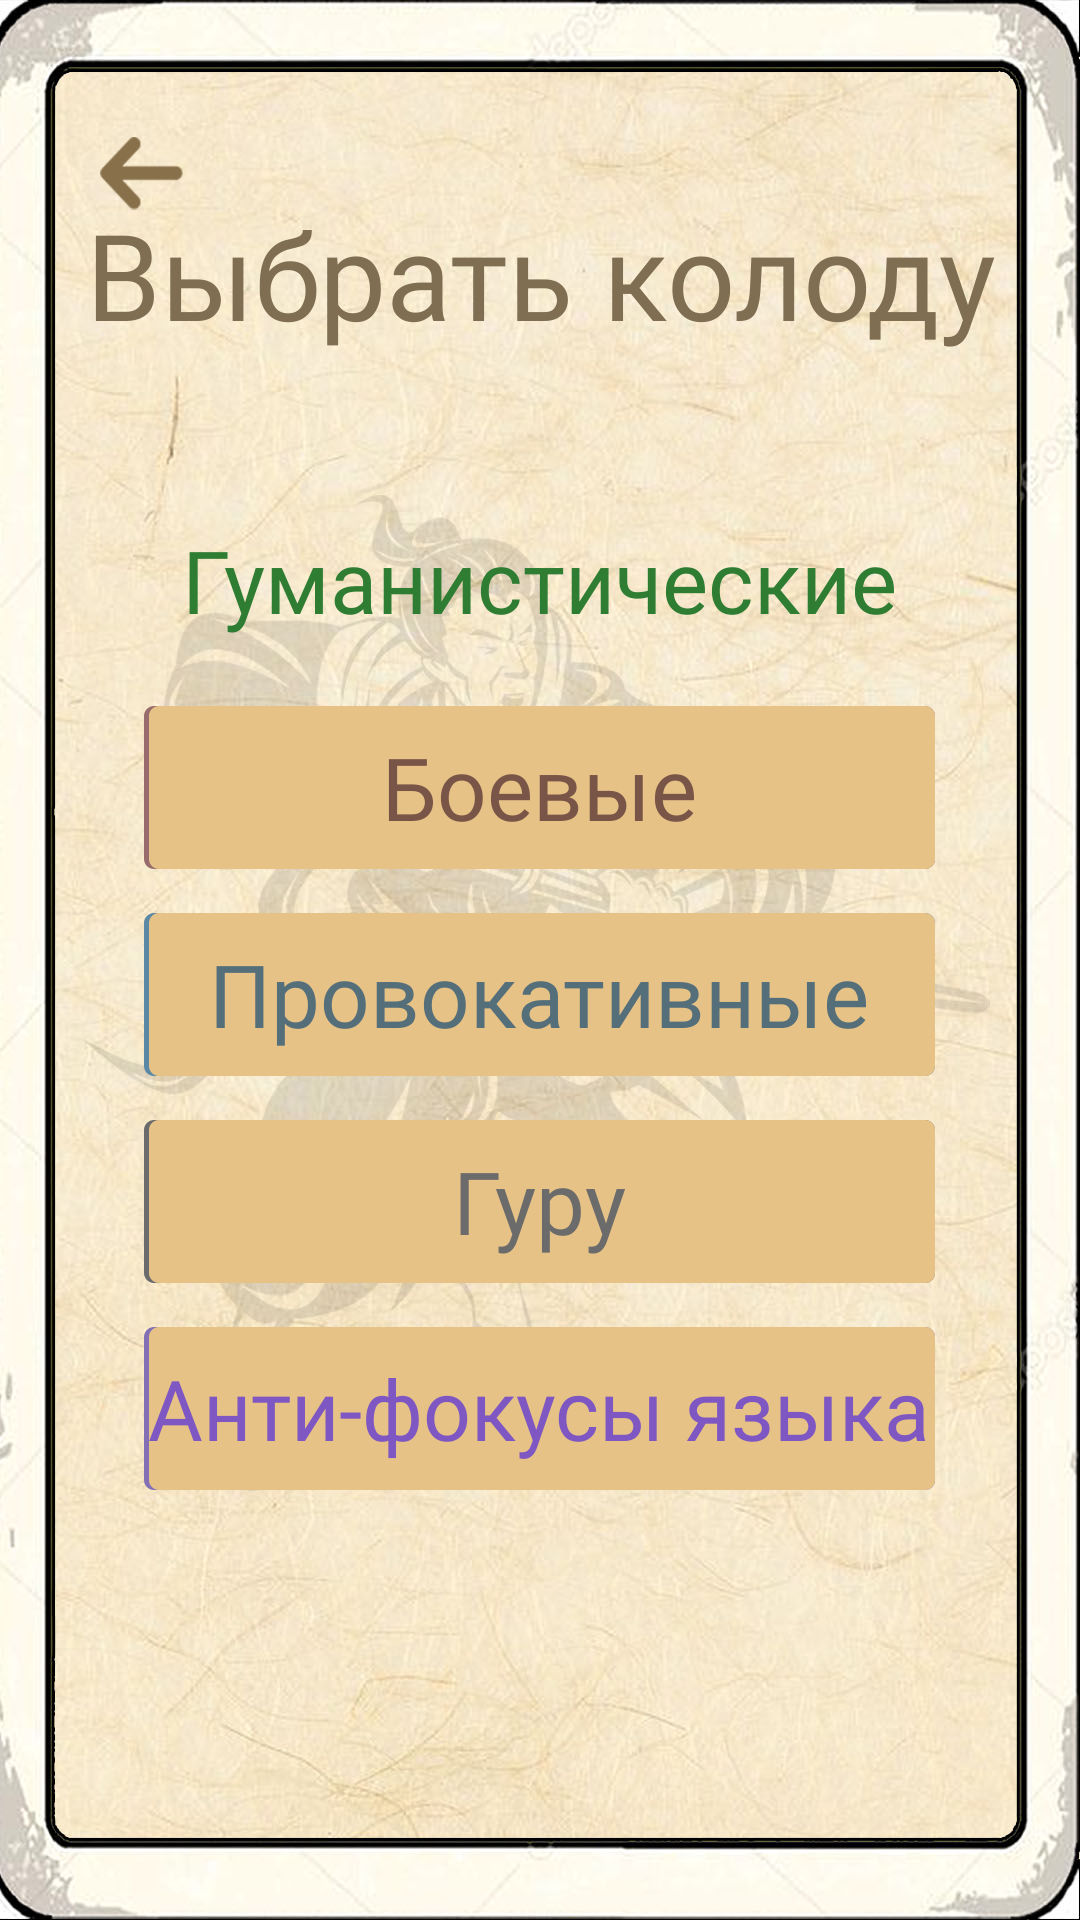

Locate icon controls on the screen. Image size 1080*1920, boxes as (x1, y1, x2, y2).
arrow back: (100, 137, 183, 210)
